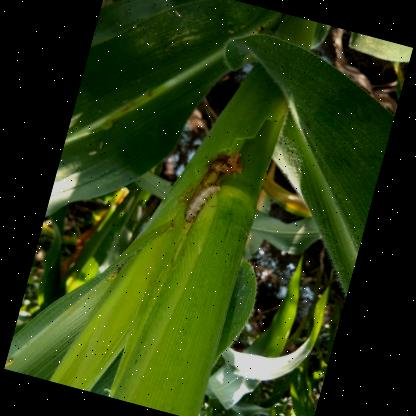Fall Armyworm Larvae: (180, 172, 224, 230)
